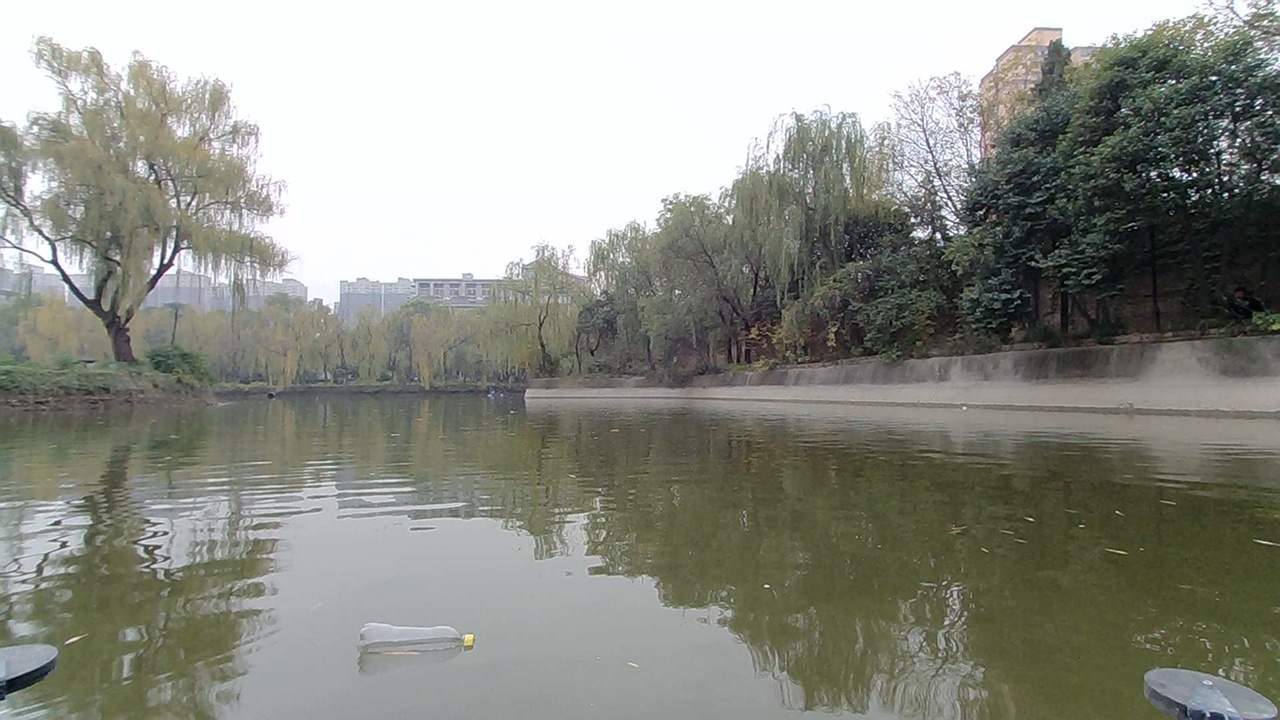bottle: (344, 614, 473, 678)
